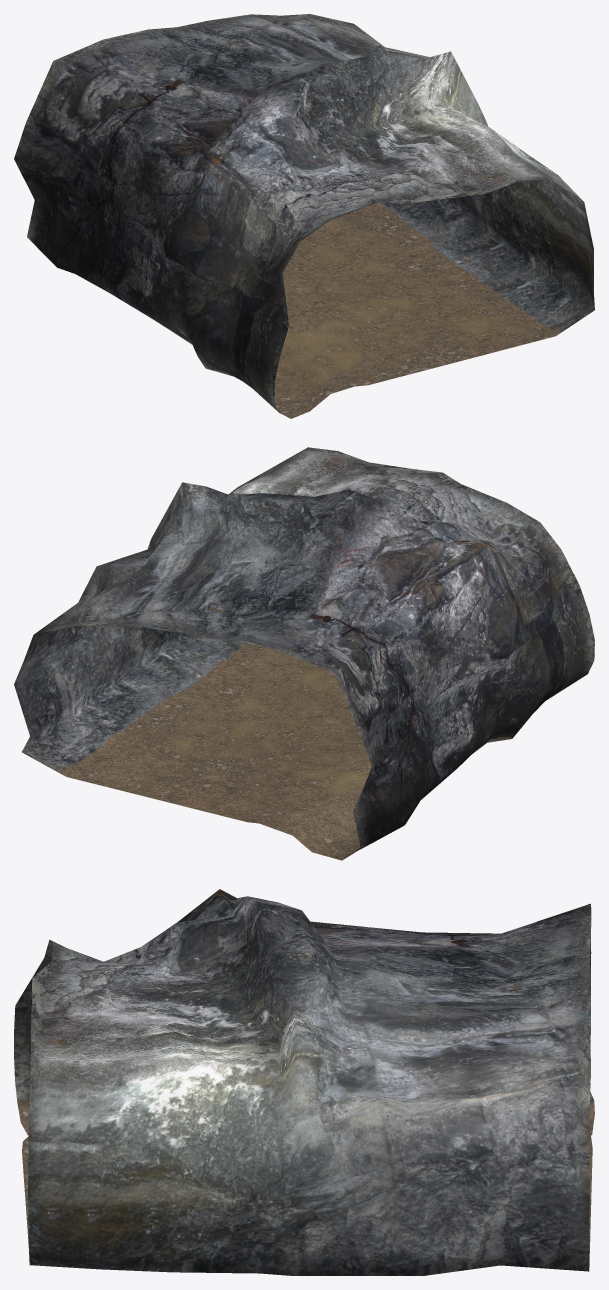
File: piece.obj
3 views of the same model, one above another, from view 1: azimuth 30°, elevation 25°; view 2: azimuth 150°, elevation 25°; view 3: azimuth 270°, elevation 25° (orthographic). The views are drawn at different scales.
Visible parts, largest first — view 1: TunnelA4; view 2: TunnelA4; view 3: TunnelA4.
Part boxes in pixels (x1=…): TunnelA4: x1=14, y1=14, x2=594, y2=418; TunnelA4: x1=14, y1=447, x2=594, y2=860; TunnelA4: x1=14, y1=889, x2=594, y2=1275.
Size of the model in its own units: 4.38 by 2.74 by 5.08.
1 material, 1 textured.
